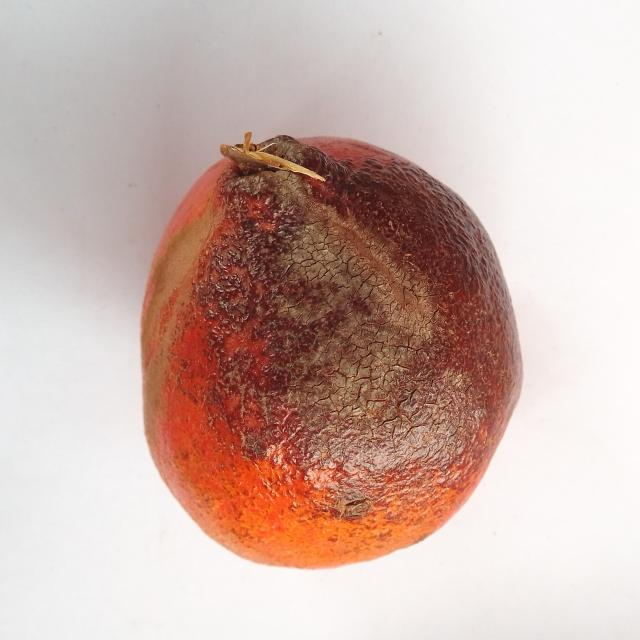overripe: (128, 123, 526, 577)
